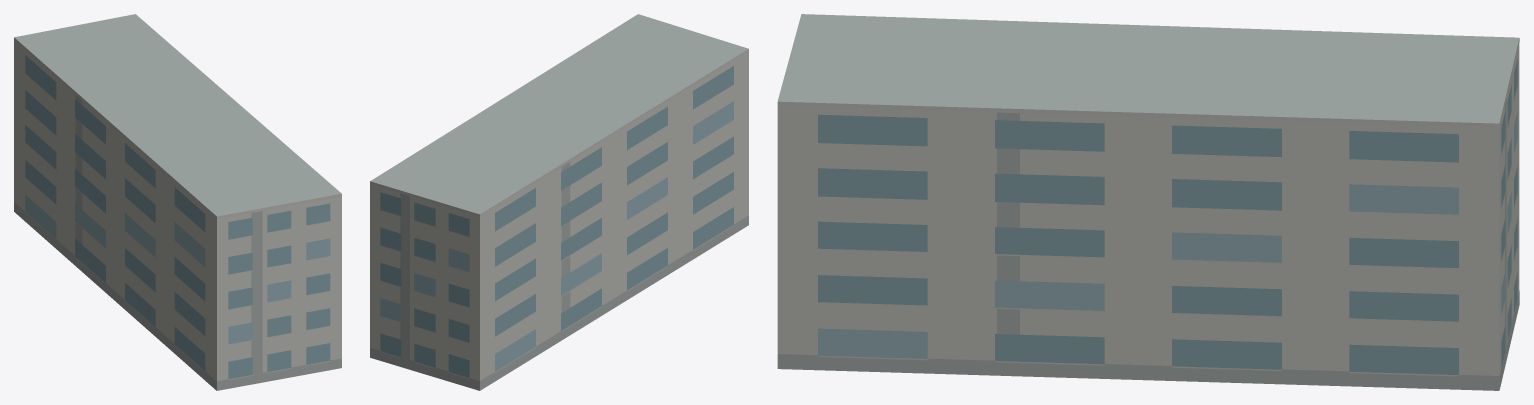
File: residential-c10cc757-f4b5-4d2a-8452-d4b7e27151d1.glb
3 renders of one model, left to right at view 1: azimuth 30°, elevation 25°; view 2: azimuth 150°, elevation 25°; view 3: azimuth 270°, elevation 25°, orthographic. The views are drawn at different scales.
Visible parts, largest first — view 1: residential-c10cc757-f4b5-4d2a-8452-d4b7e27151d1.tmp; view 2: residential-c10cc757-f4b5-4d2a-8452-d4b7e27151d1.tmp; view 3: residential-c10cc757-f4b5-4d2a-8452-d4b7e27151d1.tmp.
Boxes of the visible parts, x1=… form: residential-c10cc757-f4b5-4d2a-8452-d4b7e27151d1.tmp: x1=14, y1=14, x2=341, y2=390; residential-c10cc757-f4b5-4d2a-8452-d4b7e27151d1.tmp: x1=370, y1=14, x2=748, y2=390; residential-c10cc757-f4b5-4d2a-8452-d4b7e27151d1.tmp: x1=777, y1=14, x2=1519, y2=390.
Size of the model in its own units: 13.42 by 15.25 by 38.37.
